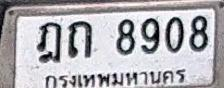0: (165, 16, 184, 53)
8: (116, 18, 135, 55), (189, 15, 208, 51)
9: (140, 17, 160, 54)
A14: (36, 21, 62, 63)
A22: (68, 20, 92, 58)
BKK: (42, 68, 192, 88)
